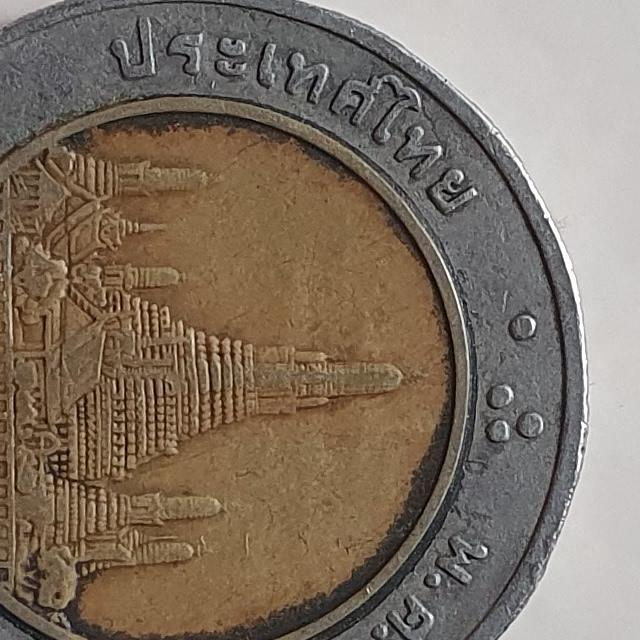10 Bath: (1, 1, 600, 640)
